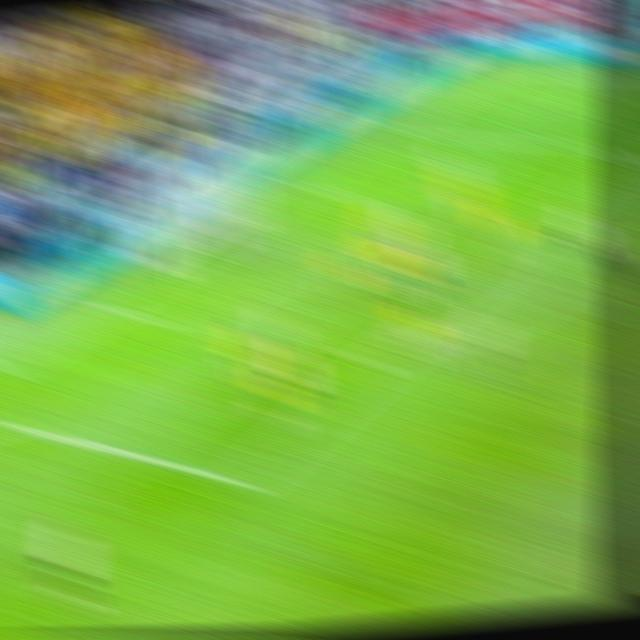bigarea_bottom_inner: (220, 463, 267, 502)
bigarea_top_outter: (369, 120, 406, 141)
bottom_arc_area_intersection: (385, 332, 421, 361)
corner: (467, 60, 499, 79)
smallarea_bottom_inner: (165, 308, 207, 343)
smallarea_bottom_outter: (84, 294, 119, 322)
smallarea_top_inner: (352, 183, 392, 214)
smallarea_top_outter: (280, 173, 315, 200)
top_arc_area_intersection: (517, 218, 553, 246)
